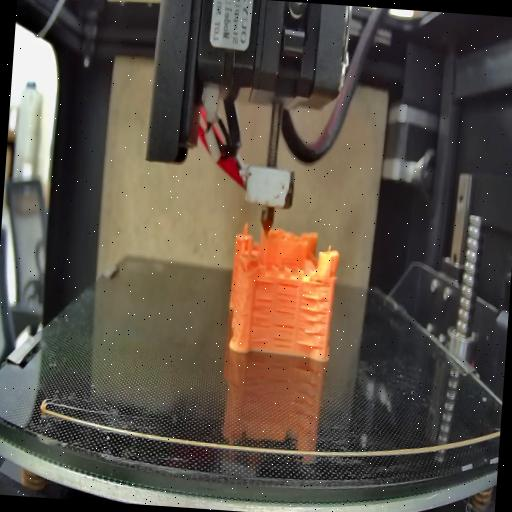cracks: (296, 295, 330, 351), (272, 278, 299, 348), (248, 292, 274, 344), (254, 278, 274, 287)
